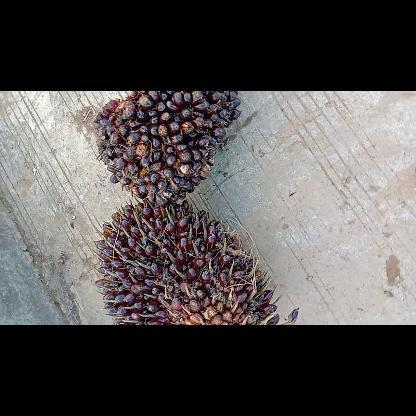TBS mentah: (97, 204, 279, 324), (94, 91, 242, 203)
